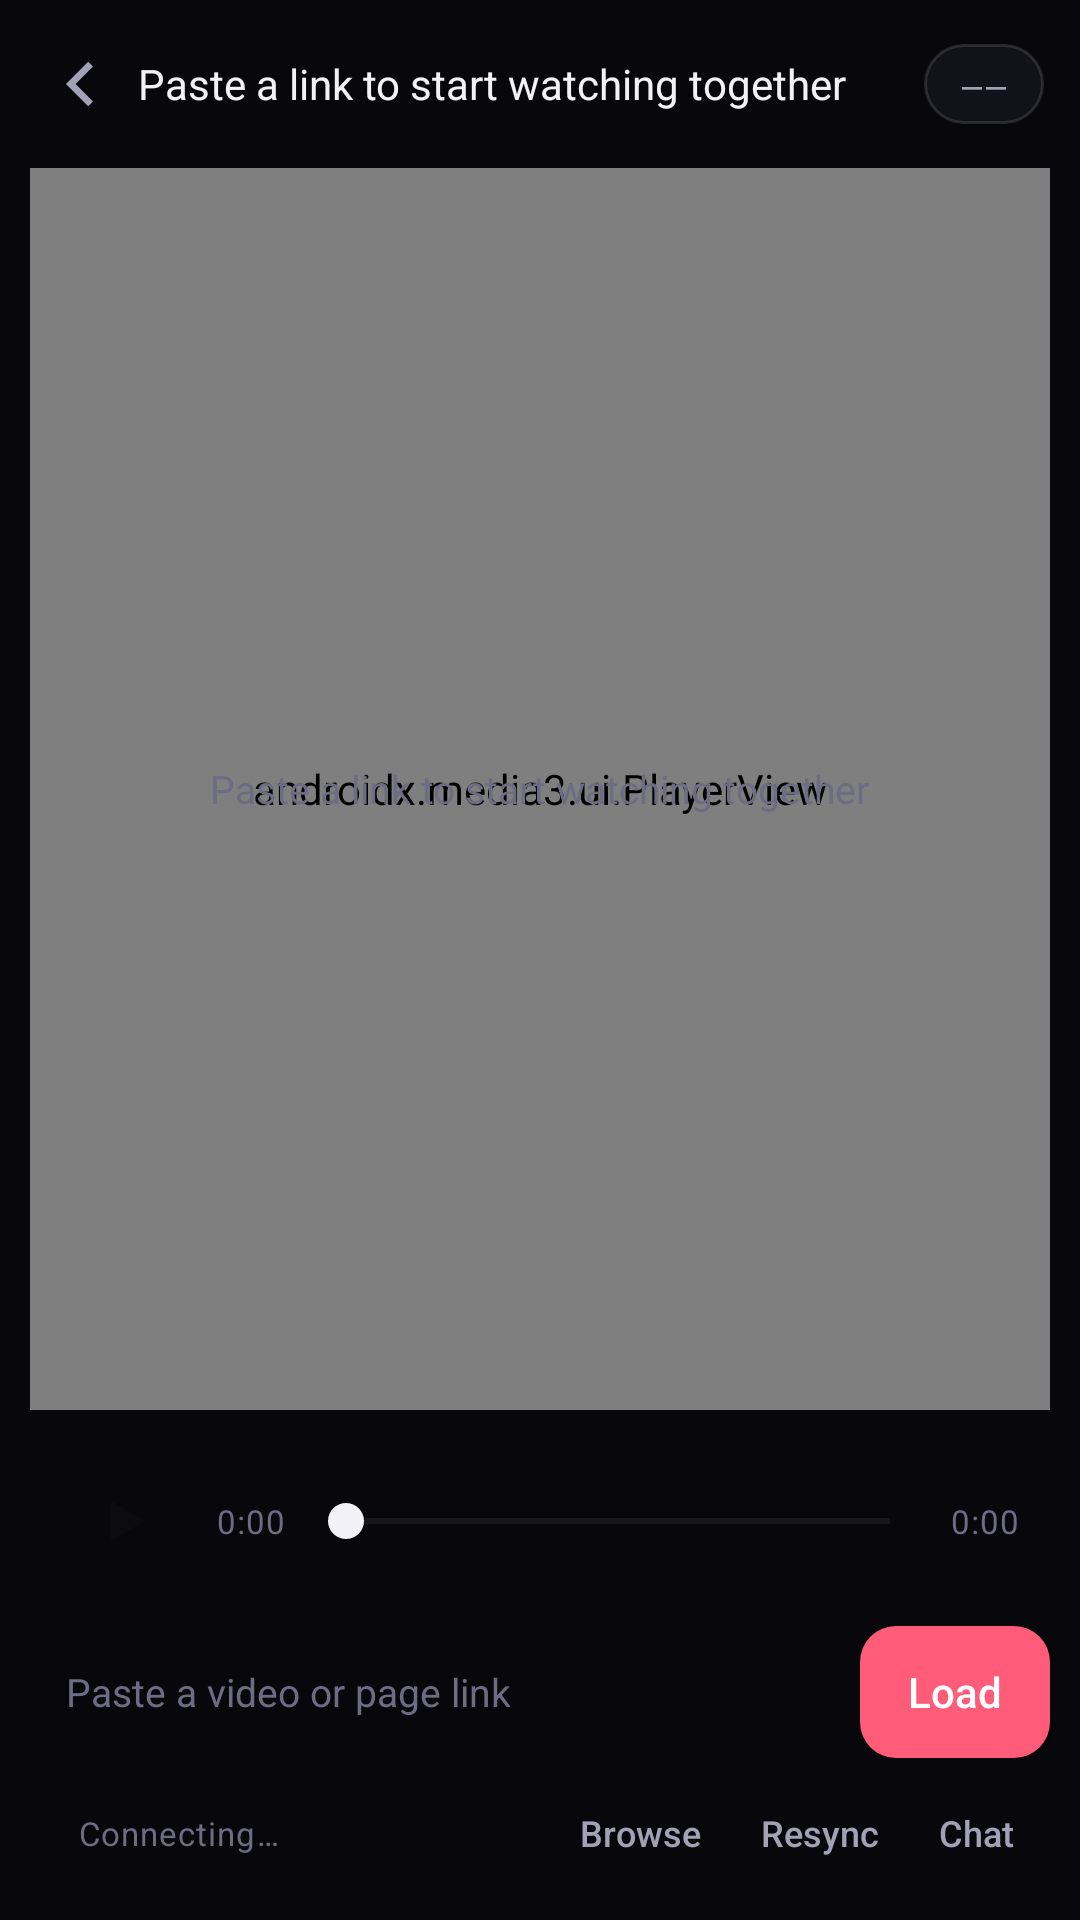

Named icons in this screenshot (1080w x 1920h) and their centers, point (x, y):
Leave room: point (79, 84)
